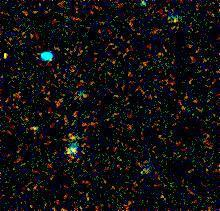star: (54, 121, 84, 151)
